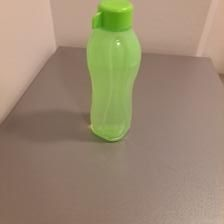bottle: (82, 0, 142, 141)
